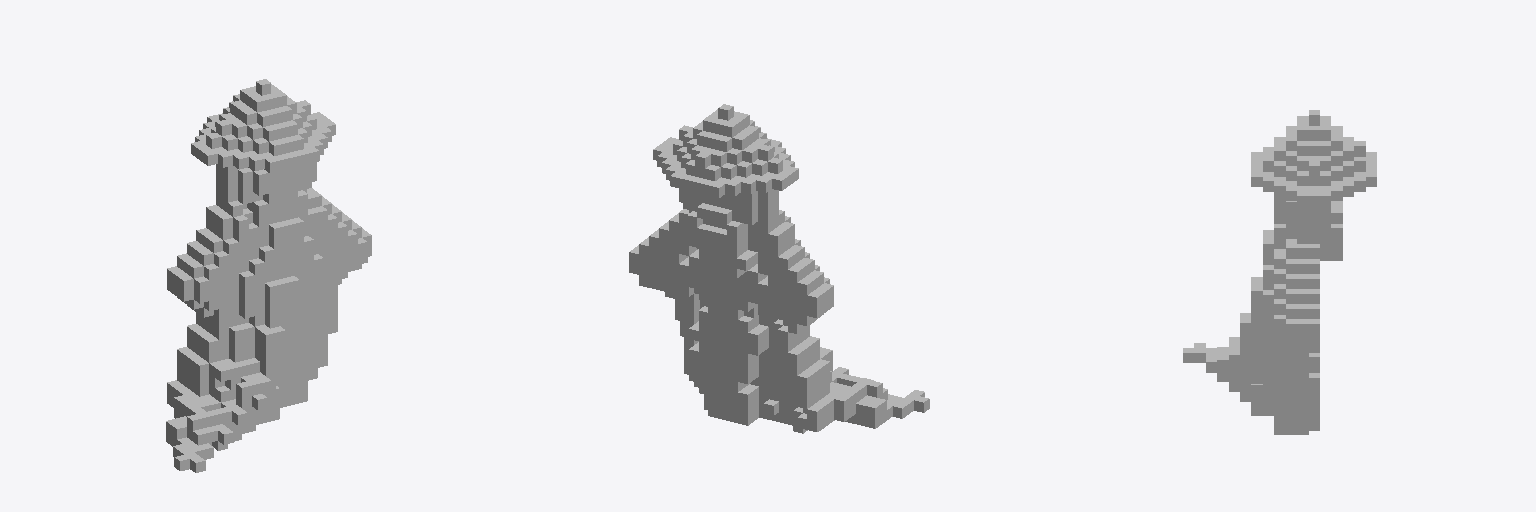
Rendered from mage 3d.obj.
The picture shows the model from 3 angles: view 1: azimuth 30°, elevation 25°; view 2: azimuth 150°, elevation 25°; view 3: azimuth 270°, elevation 25°; orthographic projection.
Visible parts, largest first — view 1: object 1; view 2: object 1; view 3: object 1.
Boxes of the visible parts, box(x1,y1,x2,y2) form: object 1: box(166, 79, 371, 472); object 1: box(629, 104, 929, 433); object 1: box(1183, 110, 1376, 434).
Bounding box in the file's own units: 2.4 × 3 × 1.7.